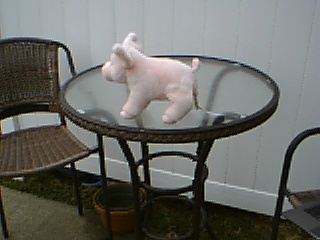piggy: (100, 31, 202, 125)
